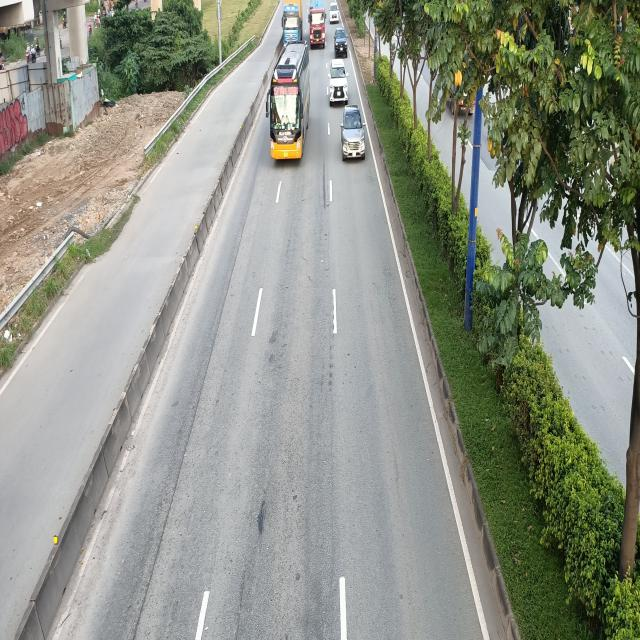car: (340, 106, 368, 162), (327, 62, 348, 107), (334, 27, 349, 58)
coach: (266, 43, 310, 164)
container: (281, 1, 303, 46), (309, 0, 327, 49)
